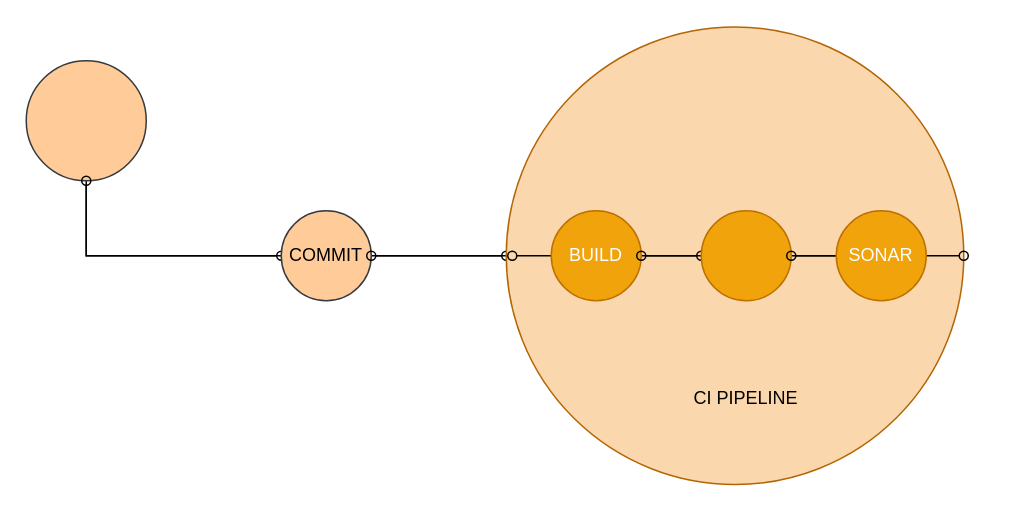
Image size: 1013x510. Some labels were removed from this diagram. The box of each missing label's shape, as (x1, y1, x2, y2) in pixels:
CODE: (25, 59, 146, 181)
TEST: (700, 209, 791, 301)
